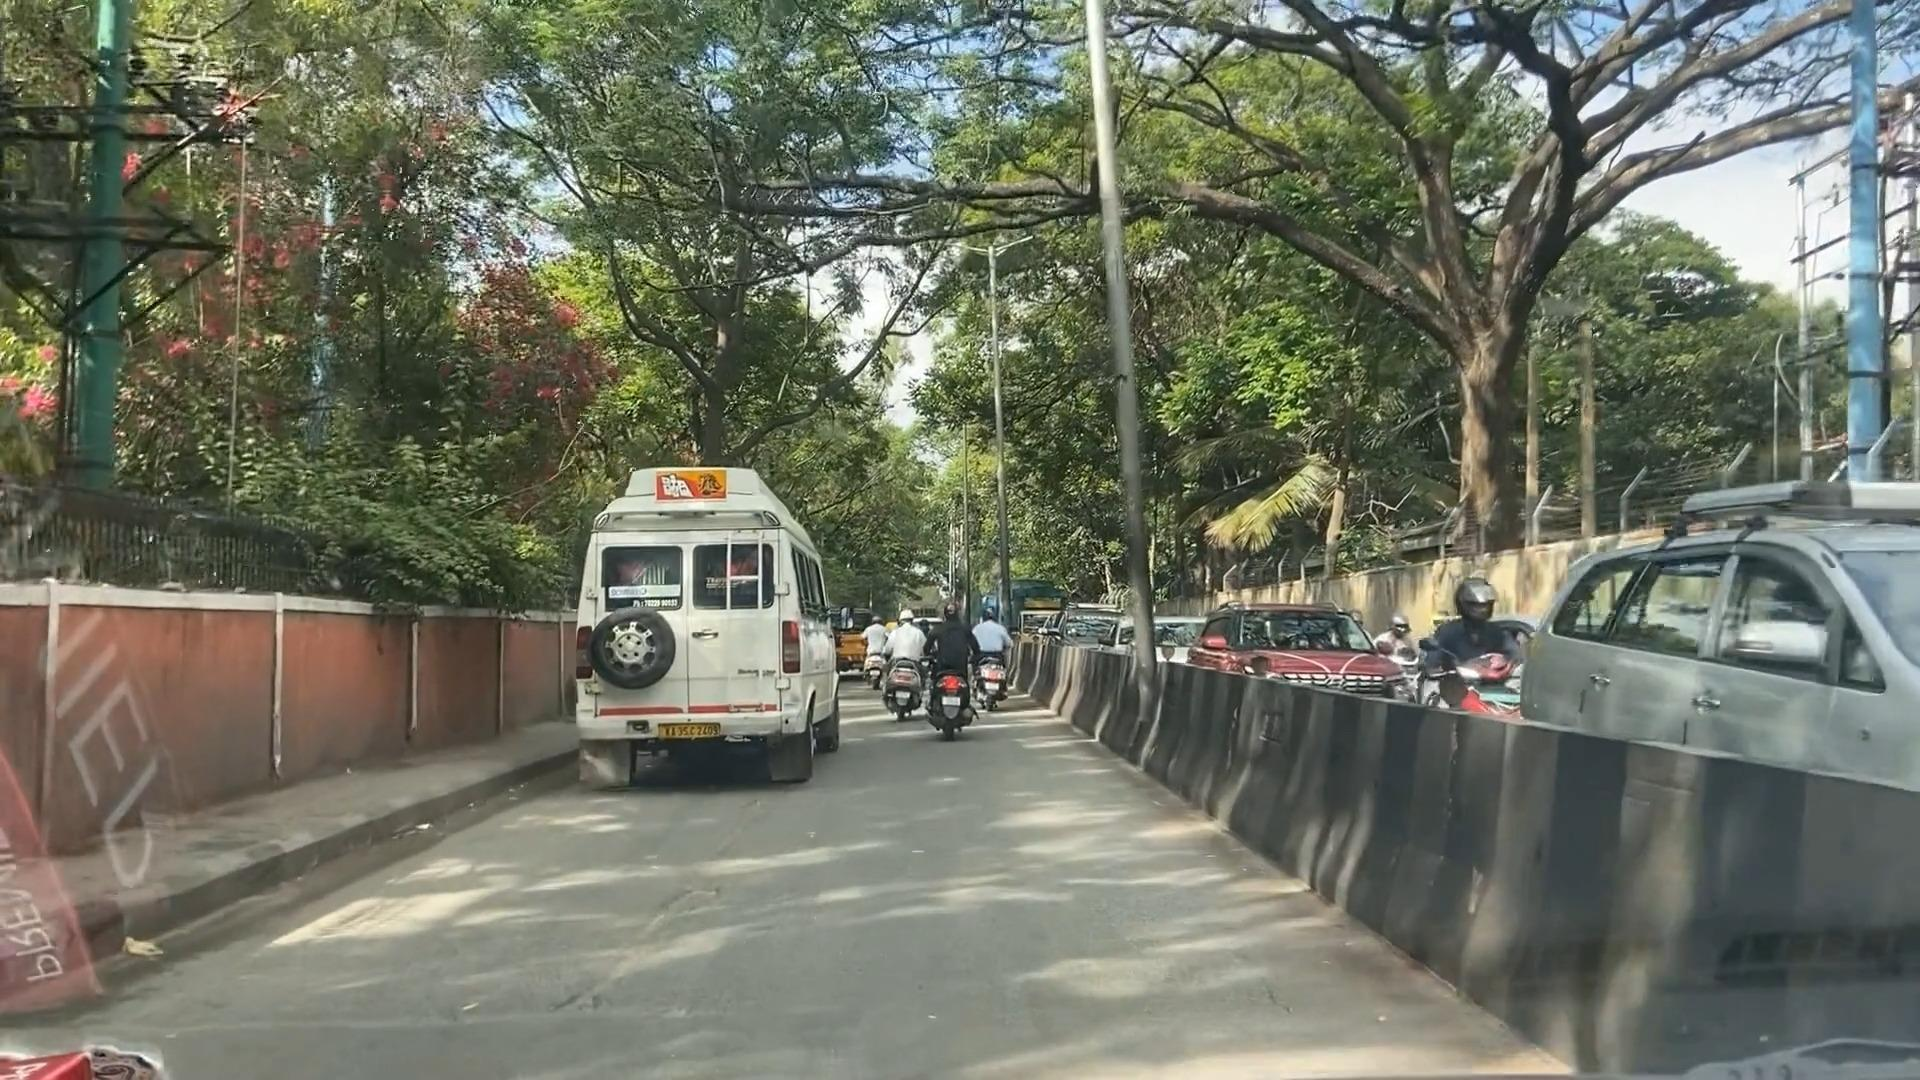HMV: (513, 415, 872, 872)
